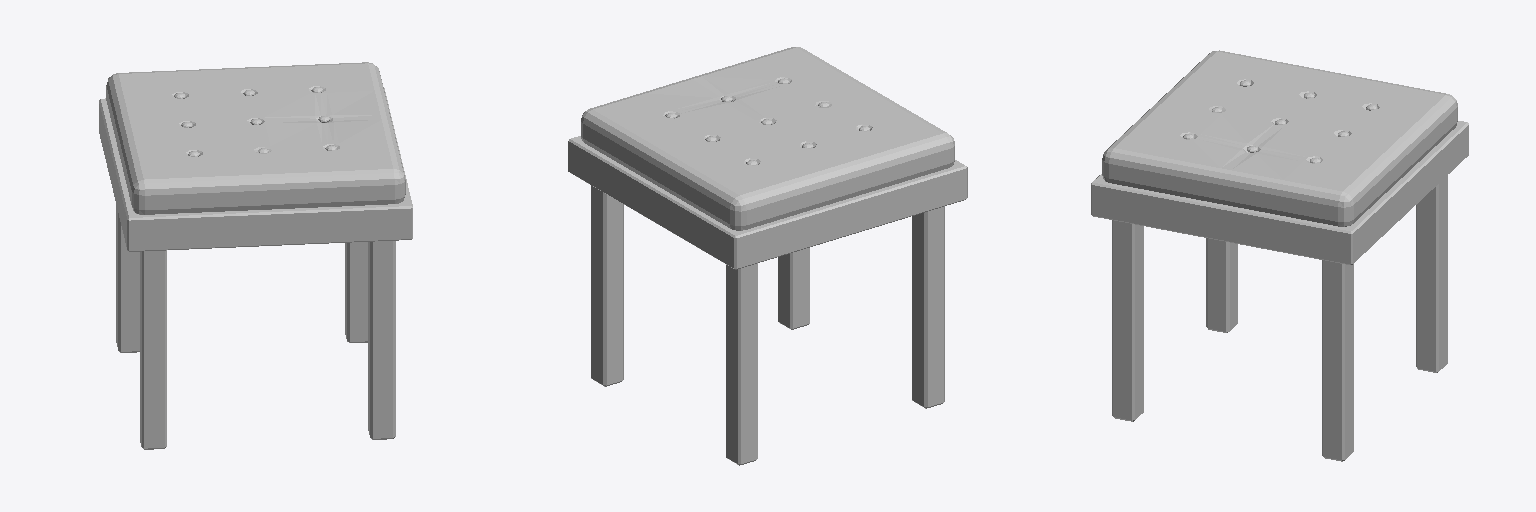
Rendered from KURSI LT 2.obj.
3 views of the same model, side by side, from view 1: azimuth 30°, elevation 25°; view 2: azimuth 150°, elevation 25°; view 3: azimuth 270°, elevation 25° (orthographic).
Parts seen in each view (by area): view 1: group3 pCube17, group3 pasted__pCube17; view 2: group3 pCube17, group3 pasted__pCube17; view 3: group3 pCube17, group3 pasted__pCube17.
Part boxes in pixels (left/top/right/bottom): group3 pCube17: left=106, top=62, right=405, bottom=214; group3 pasted__pCube17: left=99, top=88, right=412, bottom=449; group3 pCube17: left=581, top=47, right=954, bottom=230; group3 pasted__pCube17: left=568, top=136, right=967, bottom=465; group3 pCube17: left=1102, top=50, right=1457, bottom=226; group3 pasted__pCube17: left=1091, top=121, right=1468, bottom=461.
Bounding box in the file's own units: 1.19 × 0.9429 × 1.19.